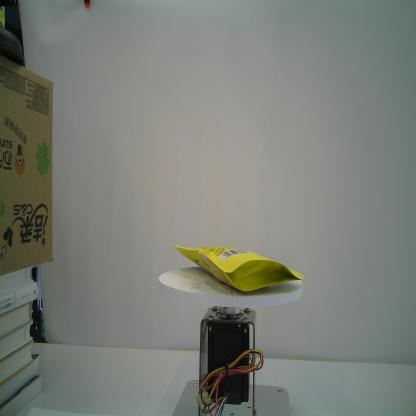Dried Fruit: (172, 244, 305, 293)
